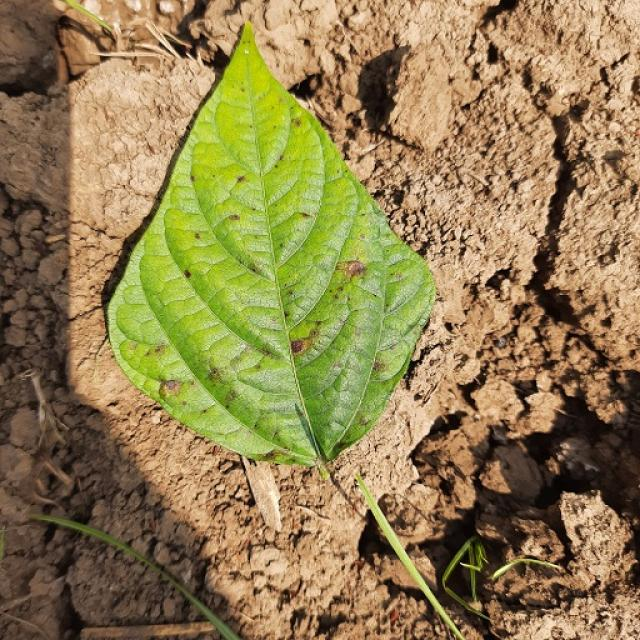Anthracnose: (286, 330, 313, 359), (336, 260, 366, 281), (160, 379, 182, 397), (207, 369, 223, 384), (247, 263, 264, 277), (258, 346, 276, 358), (371, 360, 386, 372), (260, 451, 278, 461), (152, 345, 166, 355), (358, 416, 370, 426), (293, 118, 302, 128), (236, 175, 247, 183), (228, 214, 240, 221), (183, 269, 192, 278), (300, 212, 310, 219), (283, 311, 290, 319), (190, 174, 196, 182)
Blackgram: (108, 24, 434, 475)
